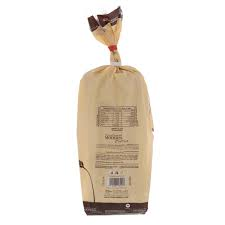bread: (73, 7, 159, 216)
